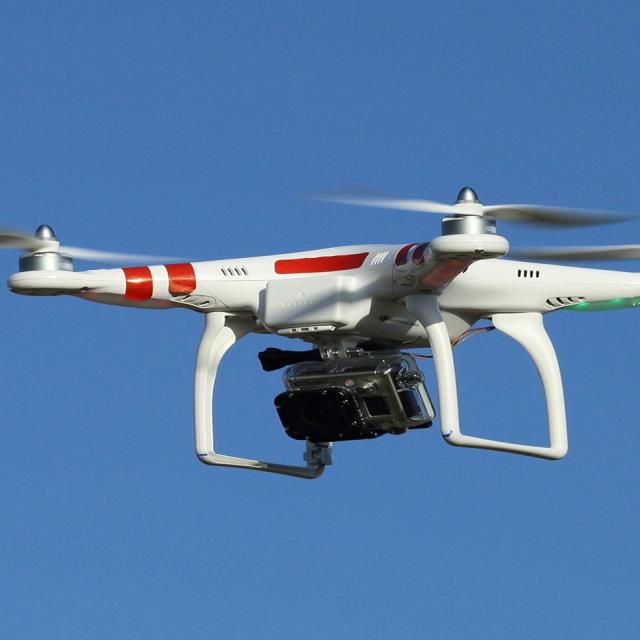drone: (4, 164, 640, 504)
